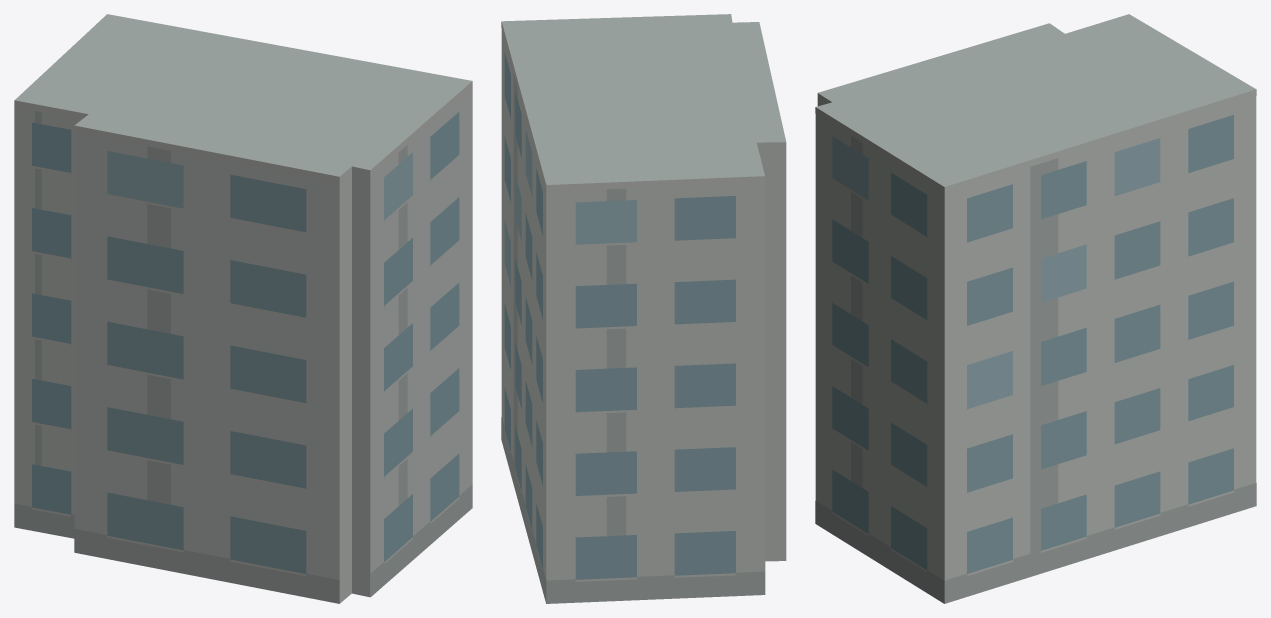
Rendered from residential-88afbe06-99b6-472d-9b57-fc3e6015c770.glb.
3 views of the same model, side by side, from view 1: azimuth 30°, elevation 25°; view 2: azimuth 150°, elevation 25°; view 3: azimuth 270°, elevation 25° (orthographic). The views are drawn at different scales.
Visible parts, largest first — view 1: residential-88afbe06-99b6-472d-9b57-fc3e6015c770.tmp; view 2: residential-88afbe06-99b6-472d-9b57-fc3e6015c770.tmp; view 3: residential-88afbe06-99b6-472d-9b57-fc3e6015c770.tmp.
Boxes of the visible parts, left/top/right/bottom form: residential-88afbe06-99b6-472d-9b57-fc3e6015c770.tmp: left=14, top=14, right=472, bottom=603; residential-88afbe06-99b6-472d-9b57-fc3e6015c770.tmp: left=501, top=14, right=786, bottom=603; residential-88afbe06-99b6-472d-9b57-fc3e6015c770.tmp: left=815, top=14, right=1256, bottom=603.
Bounding box in the file's own units: 13.59 × 15.25 × 14.63.
